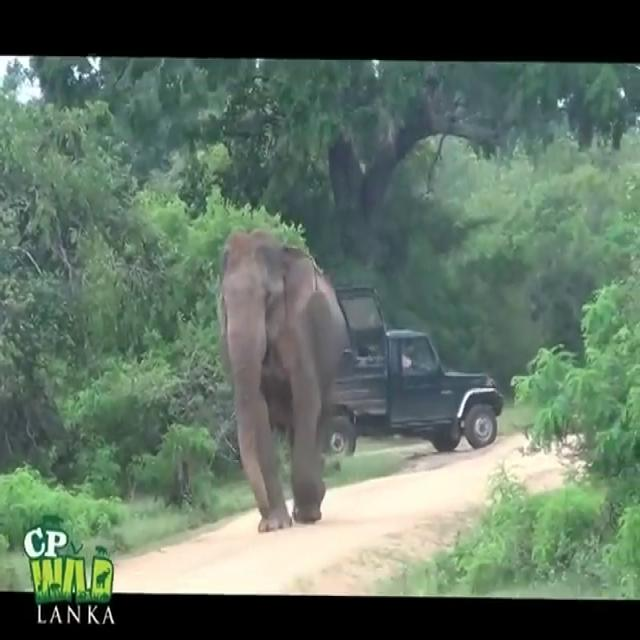Elephant: (216, 227, 352, 532)
